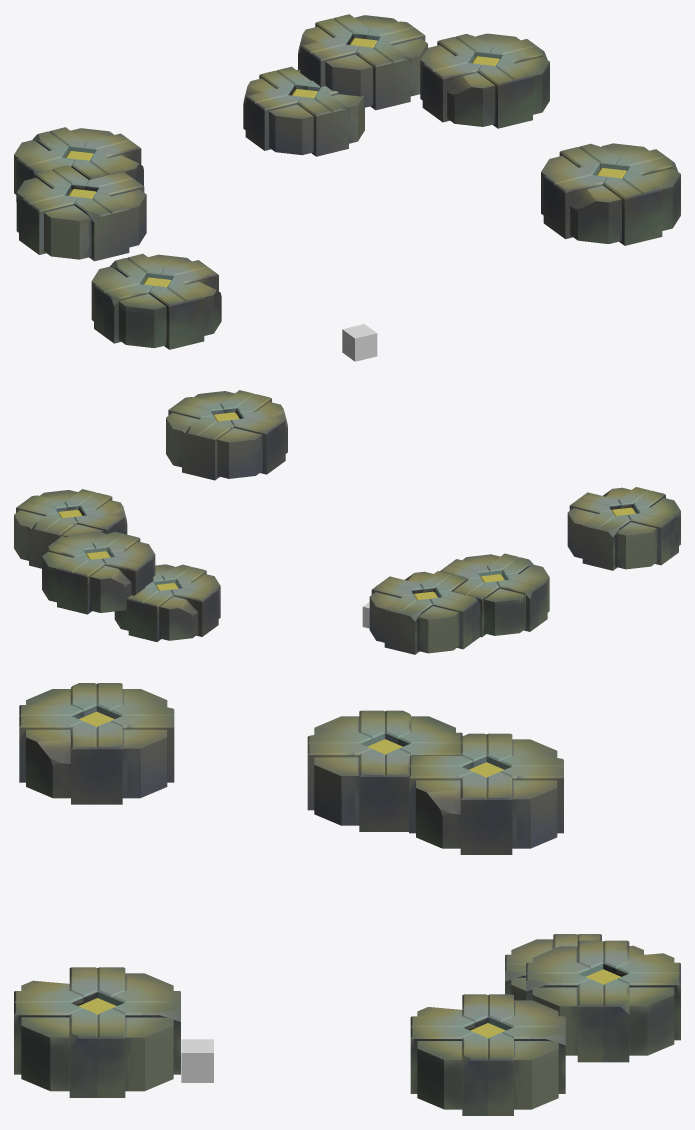
The model's file is battlescence-3-floor008.fbx.
3 renders of one model, top to bottom at view 1: azimuth 30°, elevation 25°; view 2: azimuth 150°, elevation 25°; view 3: azimuth 270°, elevation 25°, orthographic. The views are drawn at different scales.
Parts seen in each view (by area): view 1: Plane.063, Plane.061, Plane.053, Plane.058, Plane.051, Plane.052, Plane.060, battlescence-3-floor008; view 2: Plane.063, Plane.061, Plane.051, Plane.060, Plane.052, Plane.058, Plane.053; view 3: Plane.063, Plane.061, Plane.053, Plane.060, Plane.051, Plane.058, Plane.052, battlescence-3-floor008.
Part boxes in pixels (x1=…): Plane.063: x1=541, y1=143, x2=680, y2=245; Plane.061: x1=91, y1=253, x2=221, y2=349; Plane.053: x1=420, y1=33, x2=549, y2=128; Plane.058: x1=16, y1=165, x2=146, y2=261; Plane.051: x1=298, y1=14, x2=427, y2=110; Plane.052: x1=243, y1=66, x2=364, y2=156; Plane.060: x1=14, y1=127, x2=143, y2=201; battlescence-3-floor008: x1=342, y1=324, x2=377, y2=361; Plane.063: x1=166, y1=390, x2=287, y2=480; Plane.061: x1=567, y1=487, x2=680, y2=570; Plane.051: x1=42, y1=531, x2=155, y2=614; Plane.060: x1=369, y1=571, x2=480, y2=654; Plane.052: x1=114, y1=564, x2=220, y2=641; Plane.058: x1=440, y1=553, x2=549, y2=637; Plane.053: x1=14, y1=489, x2=127, y2=568; Plane.063: x1=14, y1=967, x2=180, y2=1097; Plane.061: x1=19, y1=683, x2=174, y2=804; Plane.053: x1=410, y1=994, x2=565, y2=1115; Plane.060: x1=409, y1=733, x2=563, y2=854; Plane.051: x1=526, y1=940, x2=680, y2=1062; Plane.058: x1=307, y1=710, x2=462, y2=831; Plane.052: x1=505, y1=934, x2=644, y2=1000; battlescence-3-floor008: x1=181, y1=1039, x2=213, y2=1082.
Bounding box in the file's own units: 2816 × 749 × 2166.
